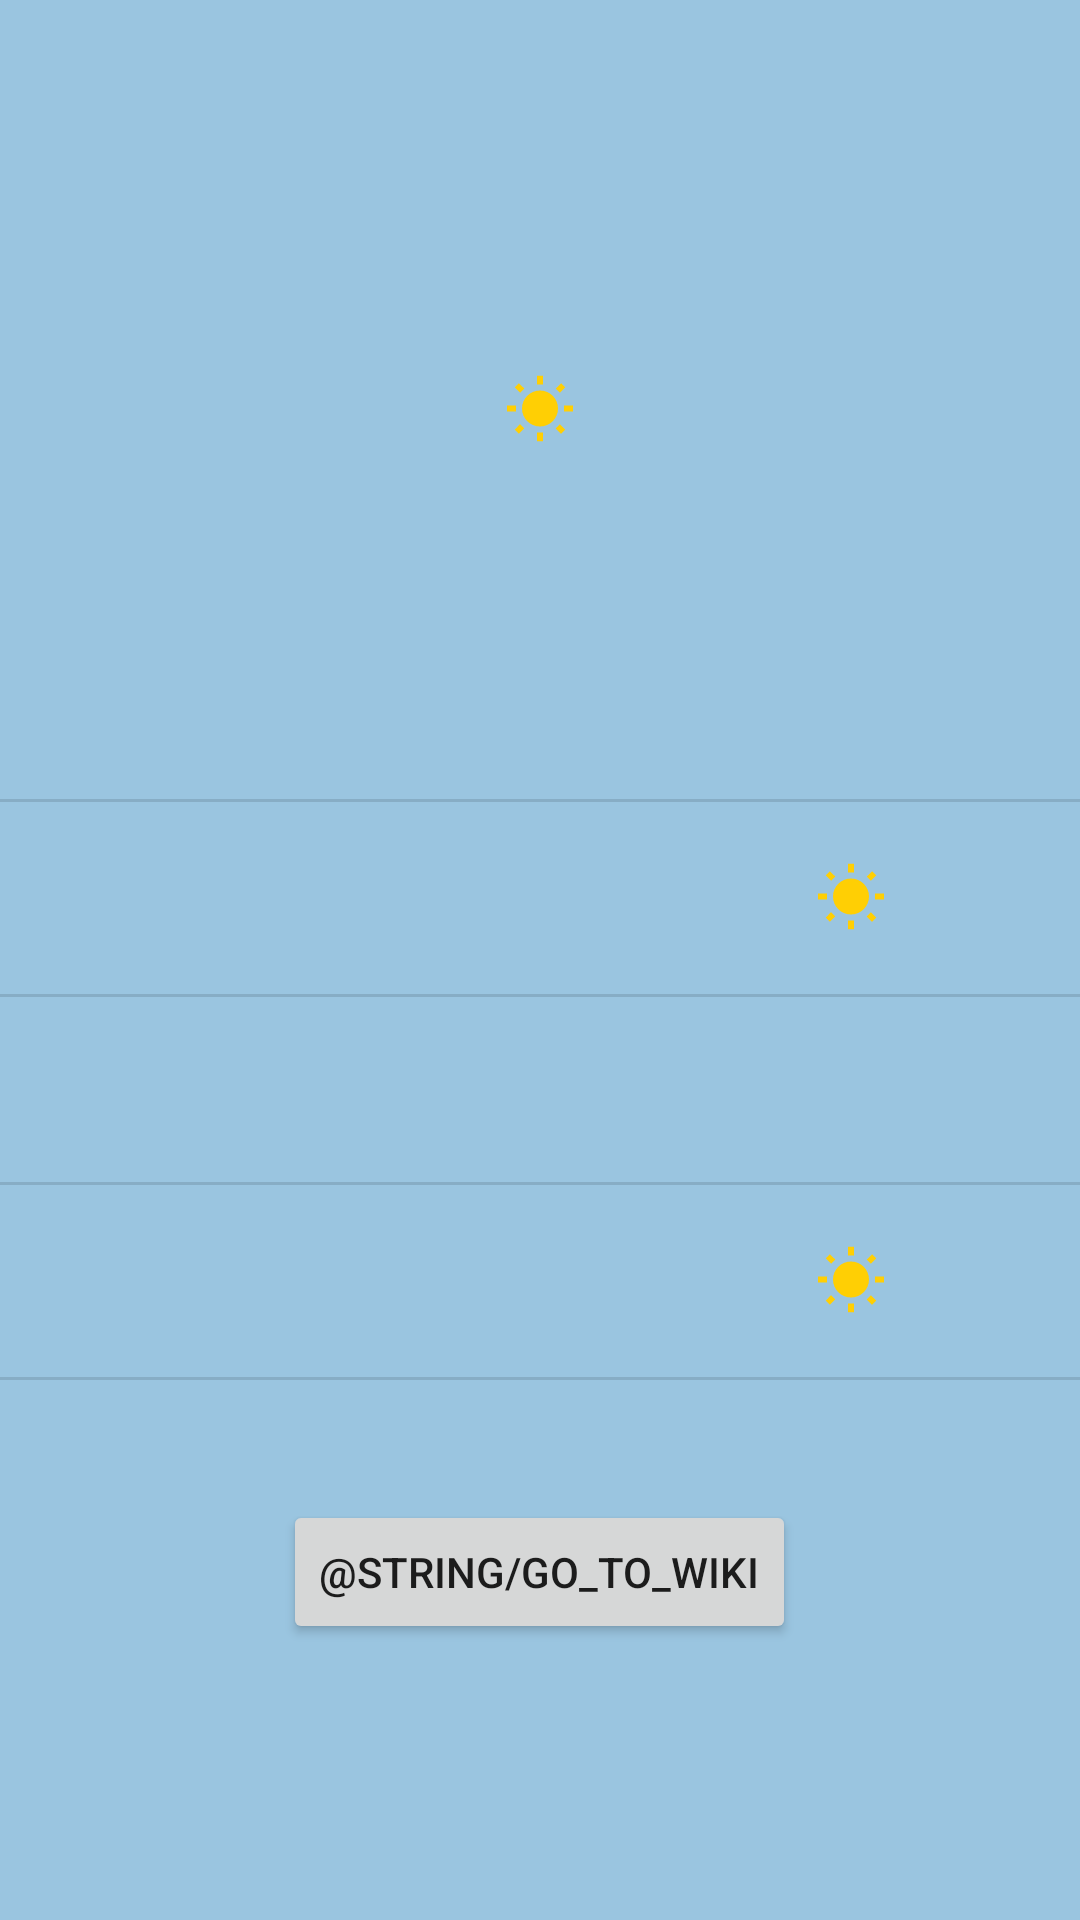

Screen size 1080px×1920px. Icon name, then its box in pixels as (x1, y1, x2, y2):
sunny: (507, 375, 573, 442), (818, 863, 884, 930), (818, 1246, 884, 1313)
